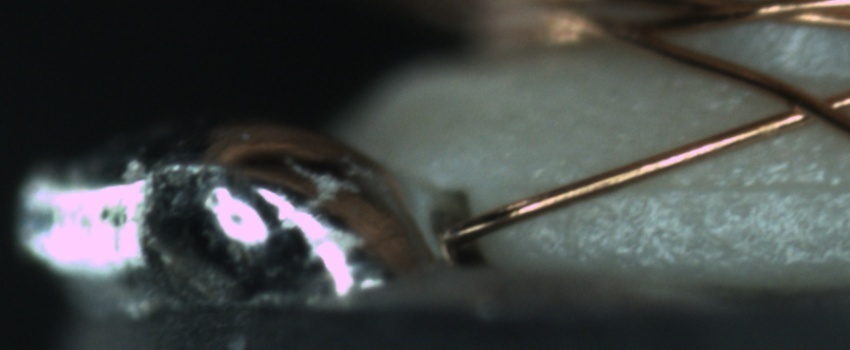CL: (758, 76, 848, 132)
DL: (607, 154, 849, 216)
